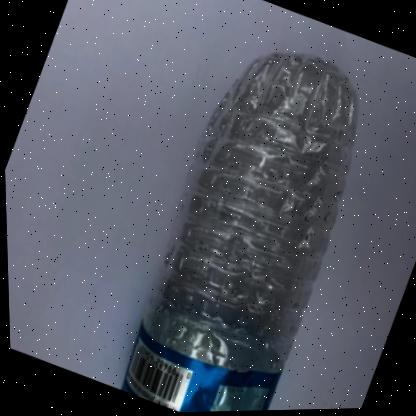Plastic: (118, 55, 357, 413)
